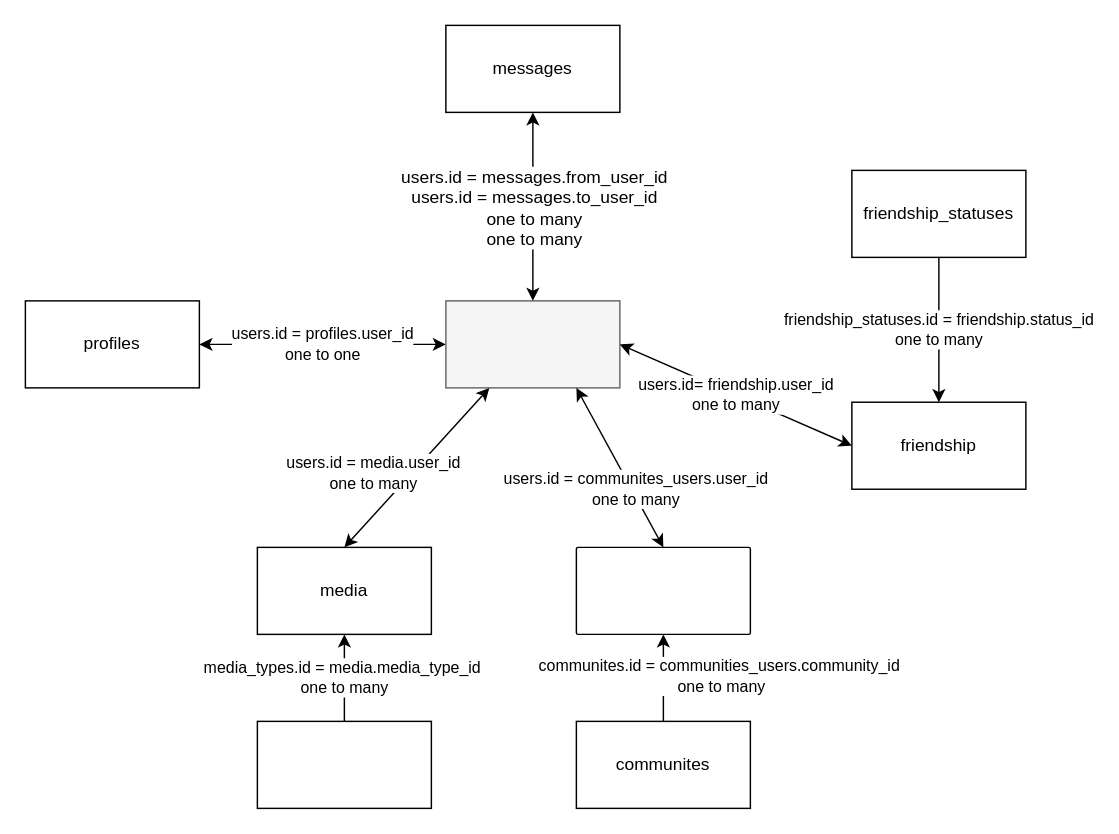
Image size: 1119x834. Some labels were removed from this diagram. Each missing label, with the centre of its shape:
"communites_users" goes at (662,590).
"media_types" goes at (343,764).
"users" goes at (532,343).
